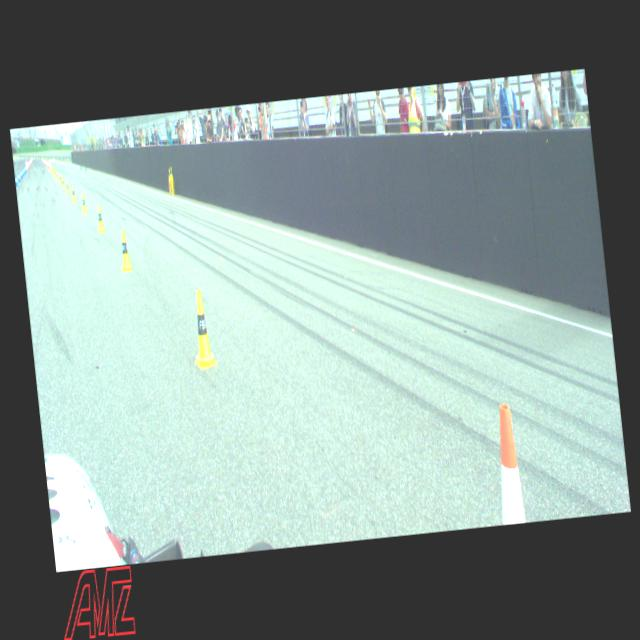blue_cone: (14, 175, 18, 186), (17, 172, 20, 182), (19, 169, 22, 179), (22, 168, 24, 177)
large_orange_cone: (490, 402, 525, 524)
yellow_cone: (188, 290, 216, 367), (118, 229, 132, 271), (95, 204, 104, 232), (80, 192, 86, 212), (70, 185, 76, 202), (64, 179, 70, 193), (61, 176, 65, 188), (58, 172, 62, 184), (56, 170, 59, 180), (53, 168, 56, 177)
